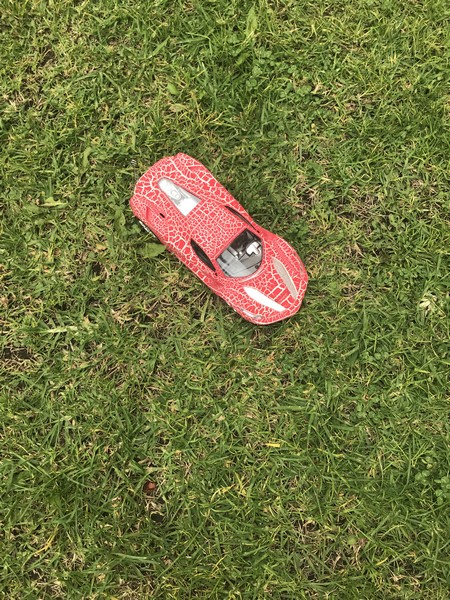RC: (126, 153, 310, 327)
